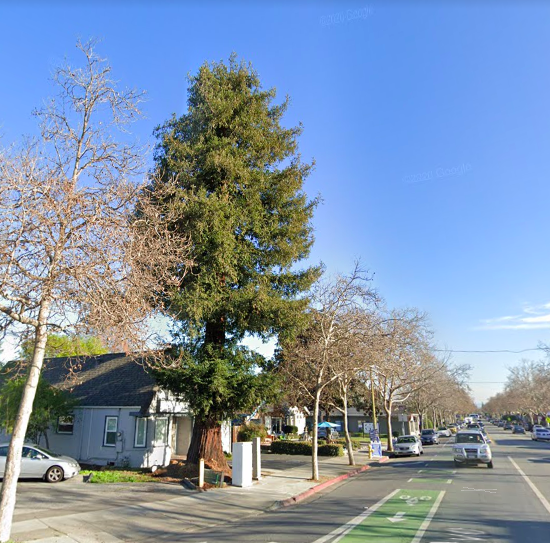tree: (128, 49, 328, 483)
